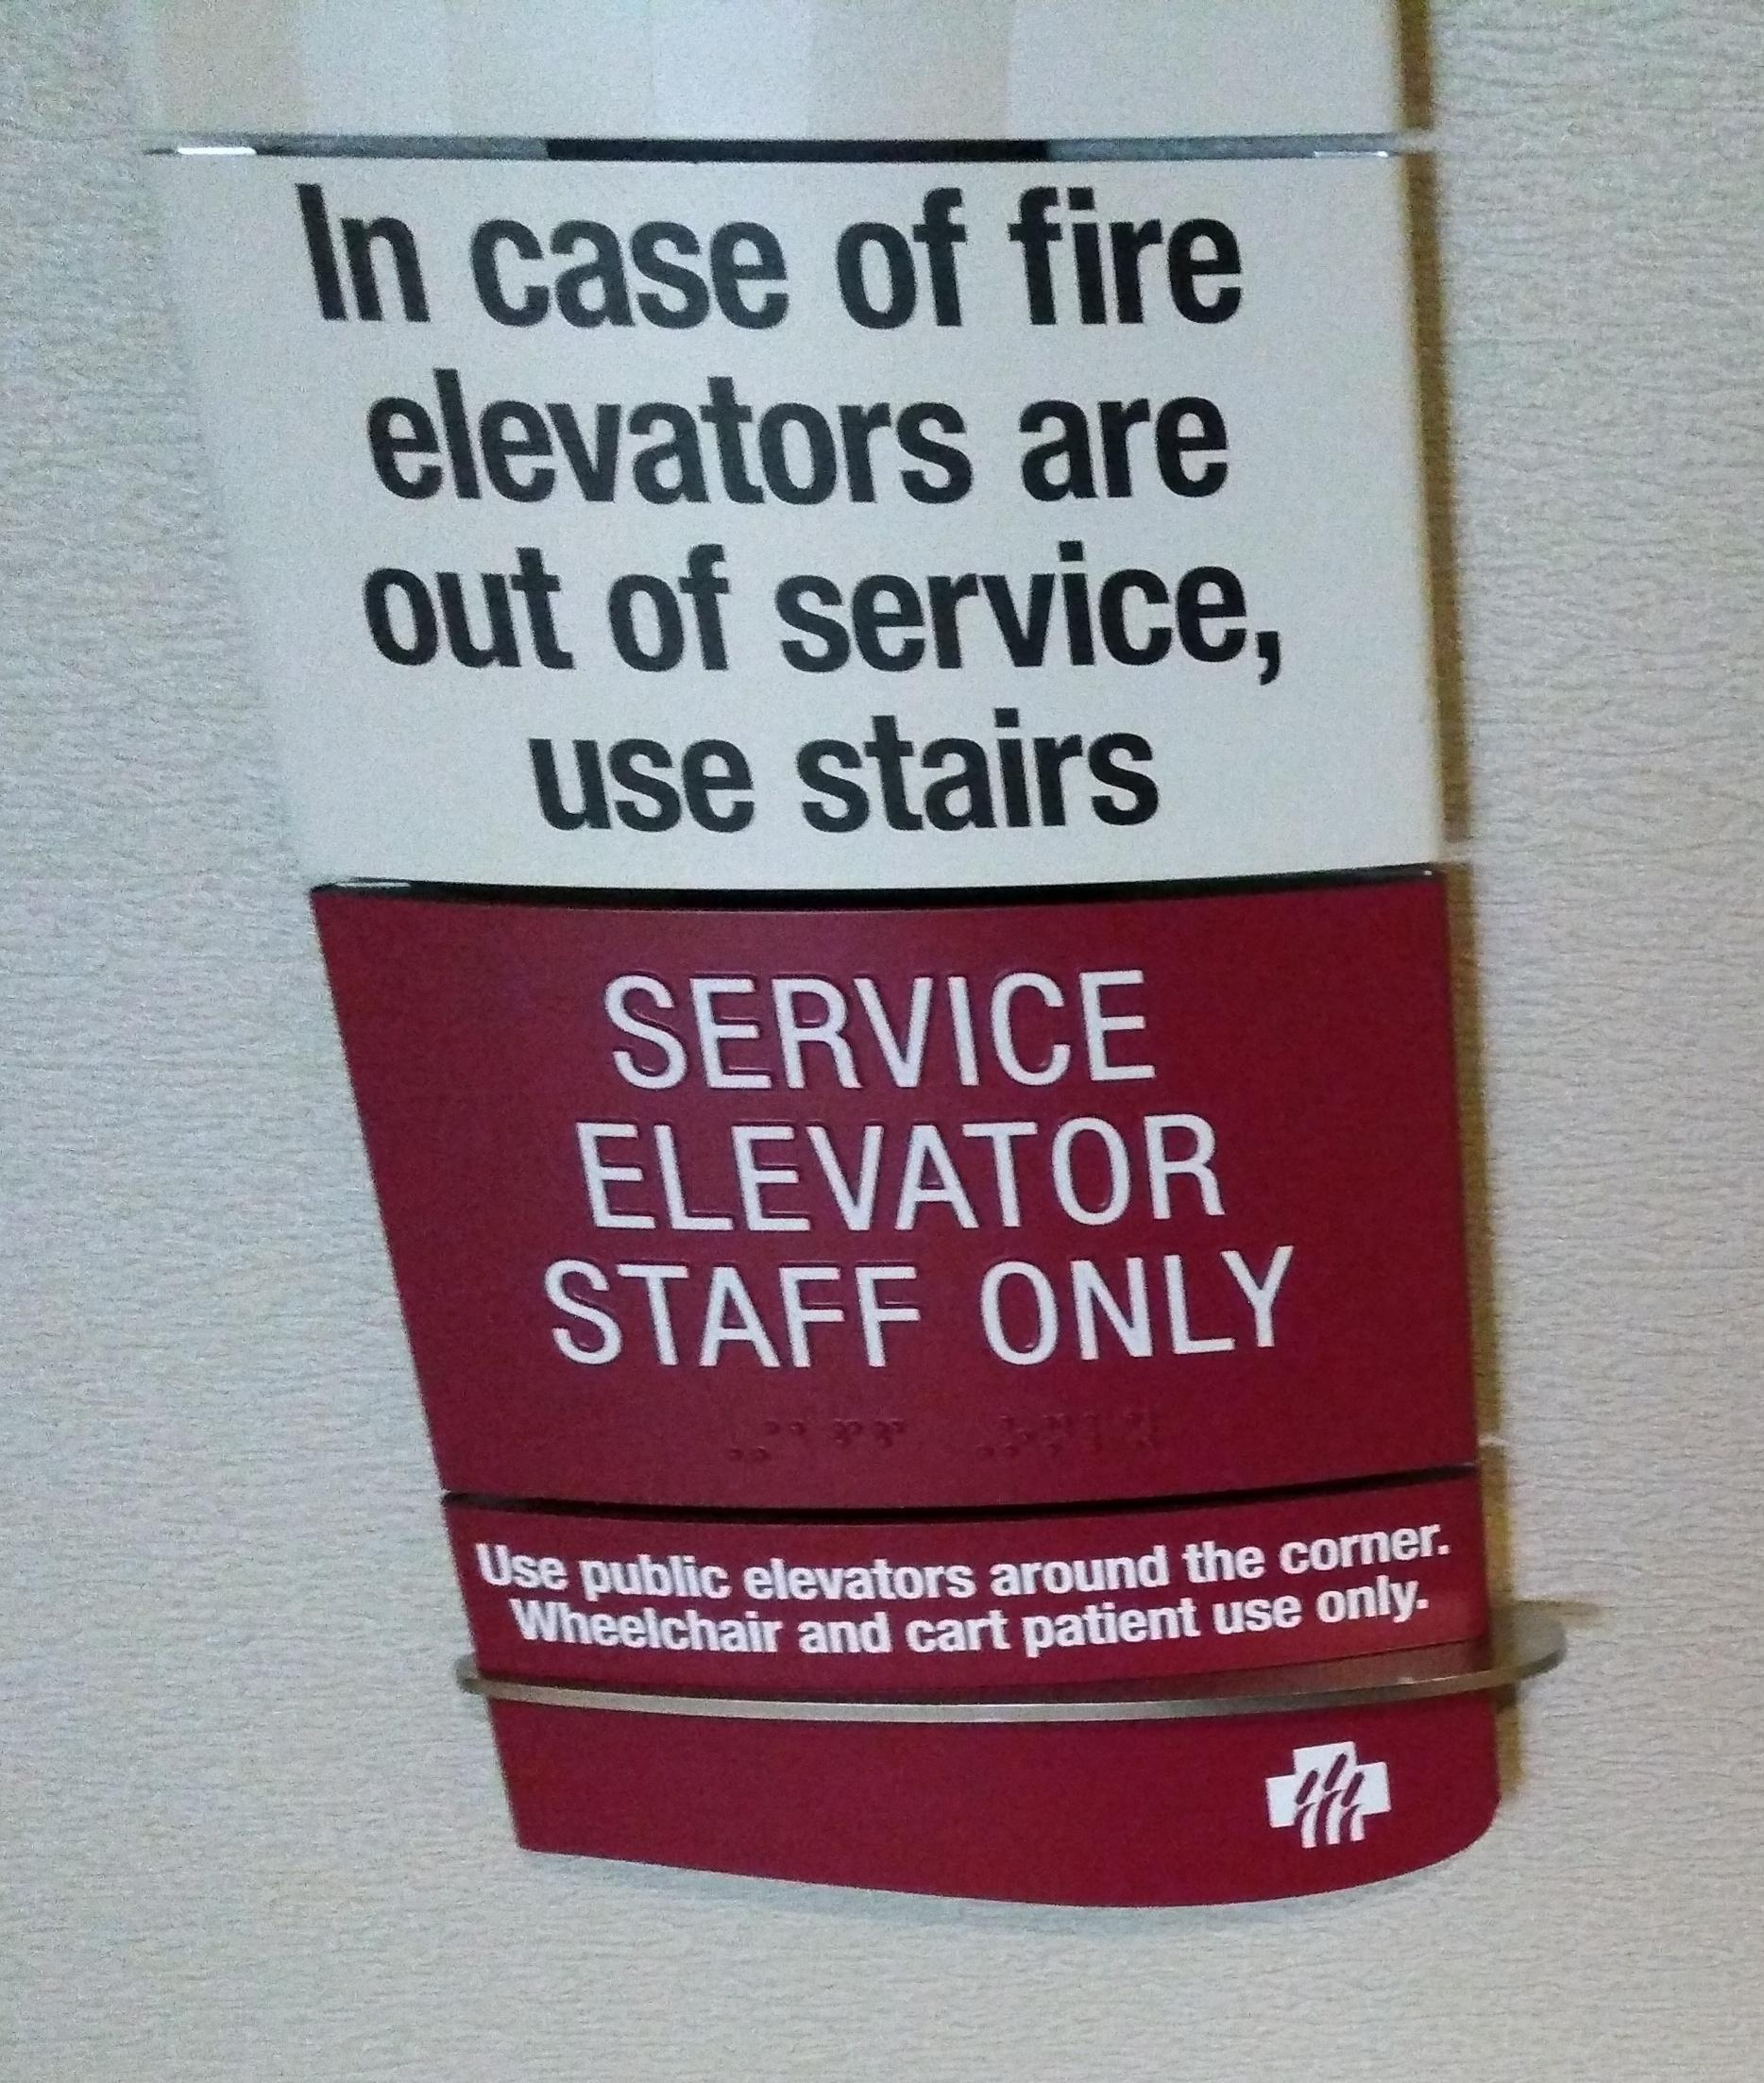sign: (123, 16, 1568, 1908)
